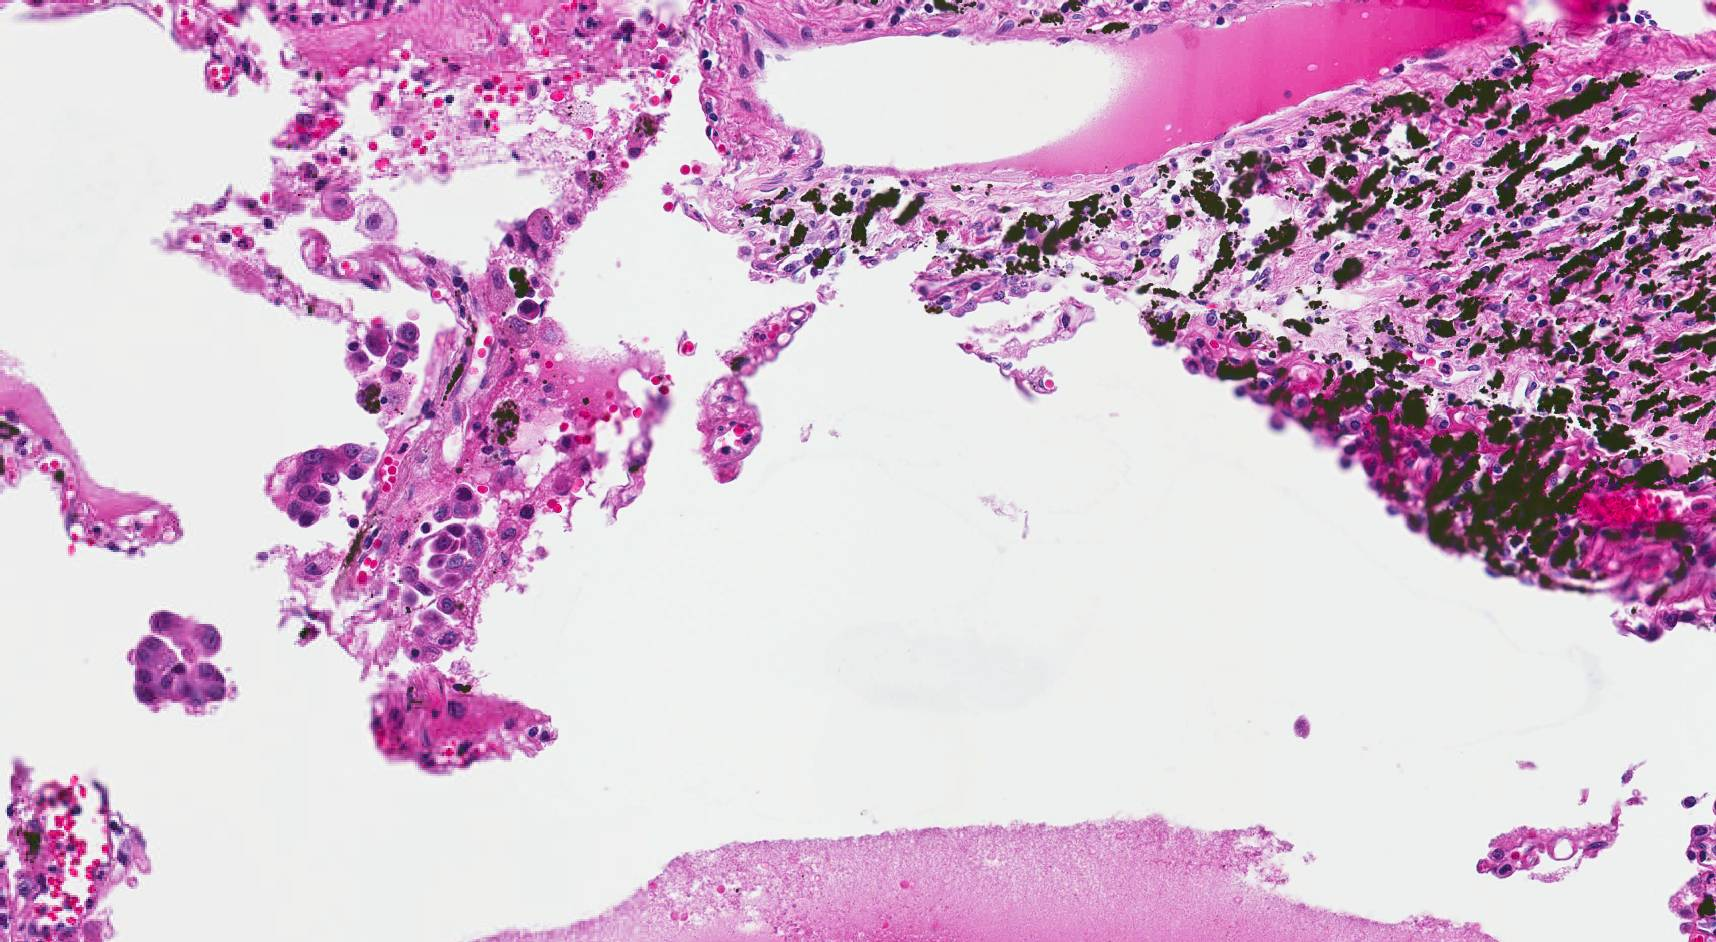stas: (396, 522, 488, 661), (262, 440, 380, 525), (131, 611, 233, 707), (378, 324, 420, 383), (431, 485, 483, 521)
